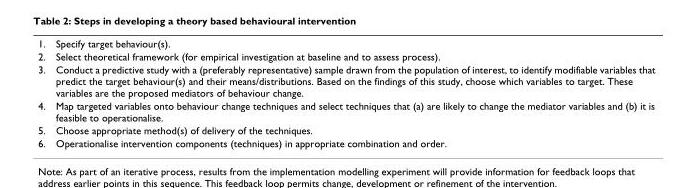table: (37, 37, 654, 148)
table column: (49, 37, 654, 148), (37, 37, 49, 148)
table row: (37, 62, 654, 98), (37, 98, 654, 123), (37, 49, 654, 62), (37, 123, 654, 136), (37, 37, 654, 49), (37, 136, 654, 148)
